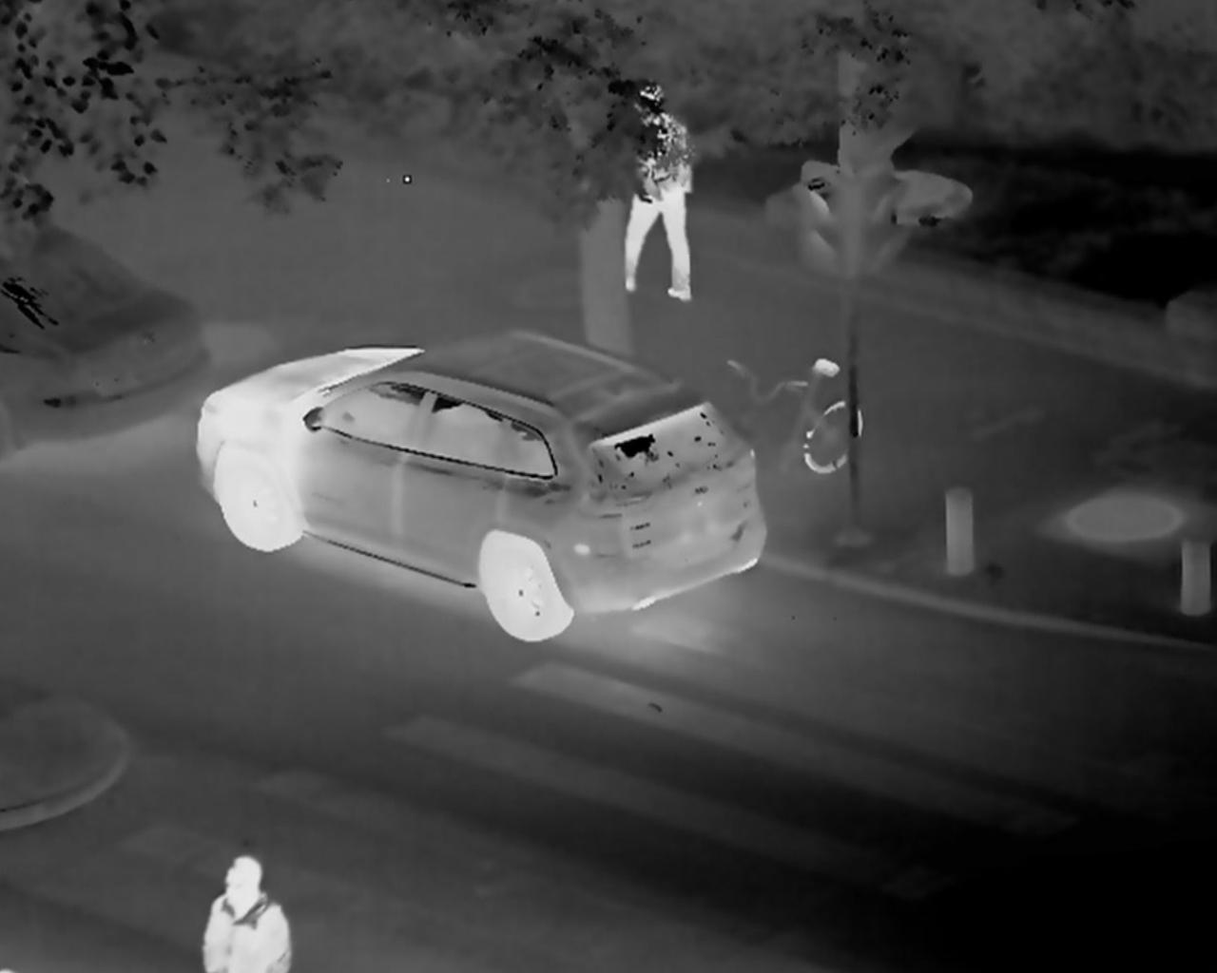person: (614, 81, 697, 308), (195, 853, 292, 973)
